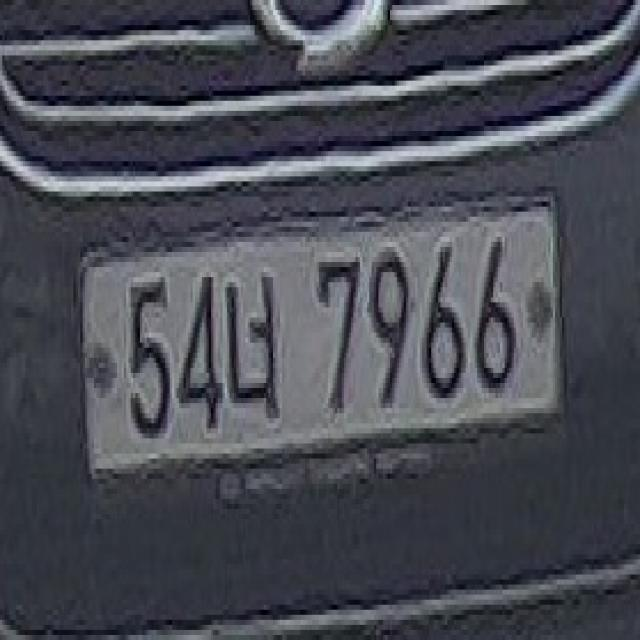4: (172, 257, 223, 454)
5: (117, 257, 177, 443)
6: (420, 227, 470, 408), (471, 232, 518, 413)
7: (303, 242, 367, 433)
9: (360, 232, 413, 443)
license_plate: (78, 176, 567, 534)
neo: (220, 252, 292, 428)
